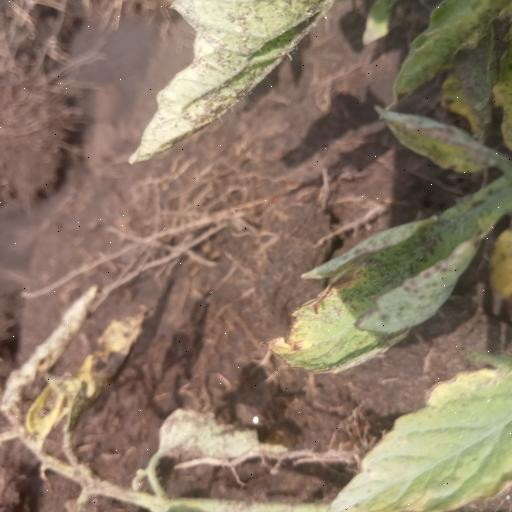Tomato_Brown_Spots: (260, 104, 512, 379)
